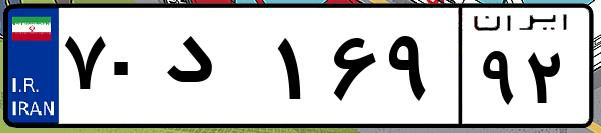0: (110, 28, 158, 98)
1: (270, 28, 330, 110)
2: (525, 38, 570, 115)
6: (330, 28, 385, 110)
7: (57, 26, 110, 100)
9: (385, 28, 445, 110), (475, 38, 525, 113)
د: (158, 20, 270, 120)
